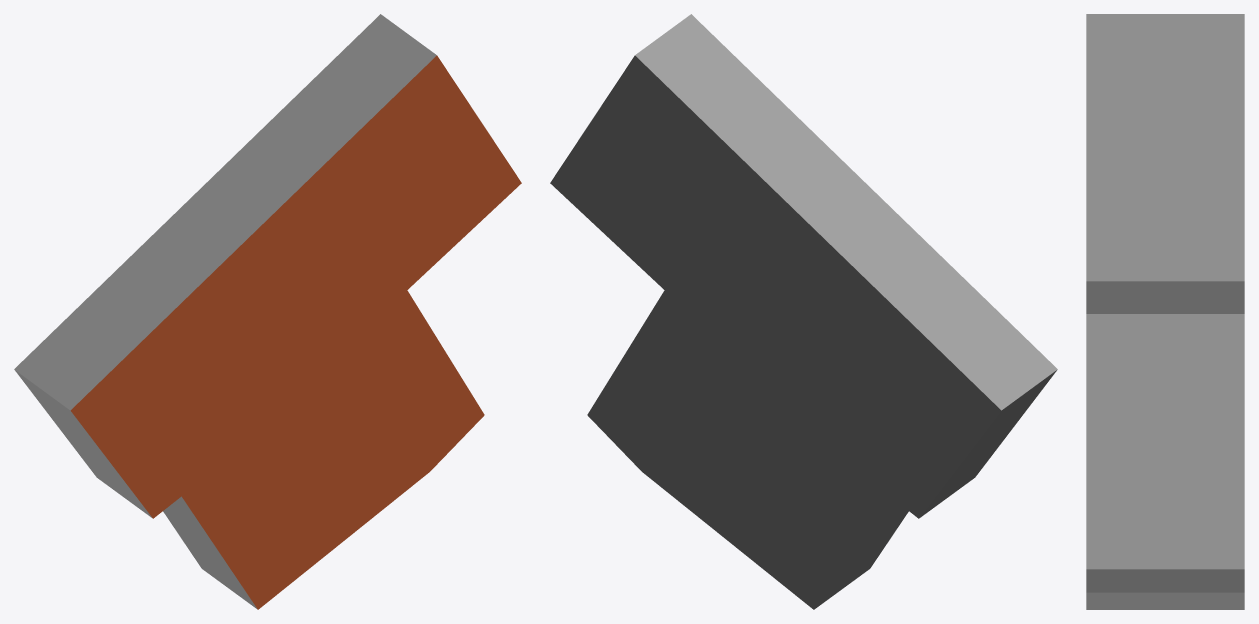
File: construction_3452_assumed_A_Casa_h6m.obj
The picture shows the model from 3 angles, left to right: view 1: azimuth 30°, elevation 25°; view 2: azimuth 150°, elevation 25°; view 3: azimuth 270°, elevation 25°; orthographic projection. The views are drawn at different scales.
Parts seen in each view (by area): view 1: construction_3452_assumed_A_Casa; view 2: construction_3452_assumed_A_Casa; view 3: construction_3452_assumed_A_Casa.
Part boxes in pixels (x1,y1,x2,y2): construction_3452_assumed_A_Casa: (14, 14, 521, 609); construction_3452_assumed_A_Casa: (550, 14, 1057, 609); construction_3452_assumed_A_Casa: (1086, 14, 1244, 609).
Bounding box in the file's own units: 27.73 × 30 × 6.
